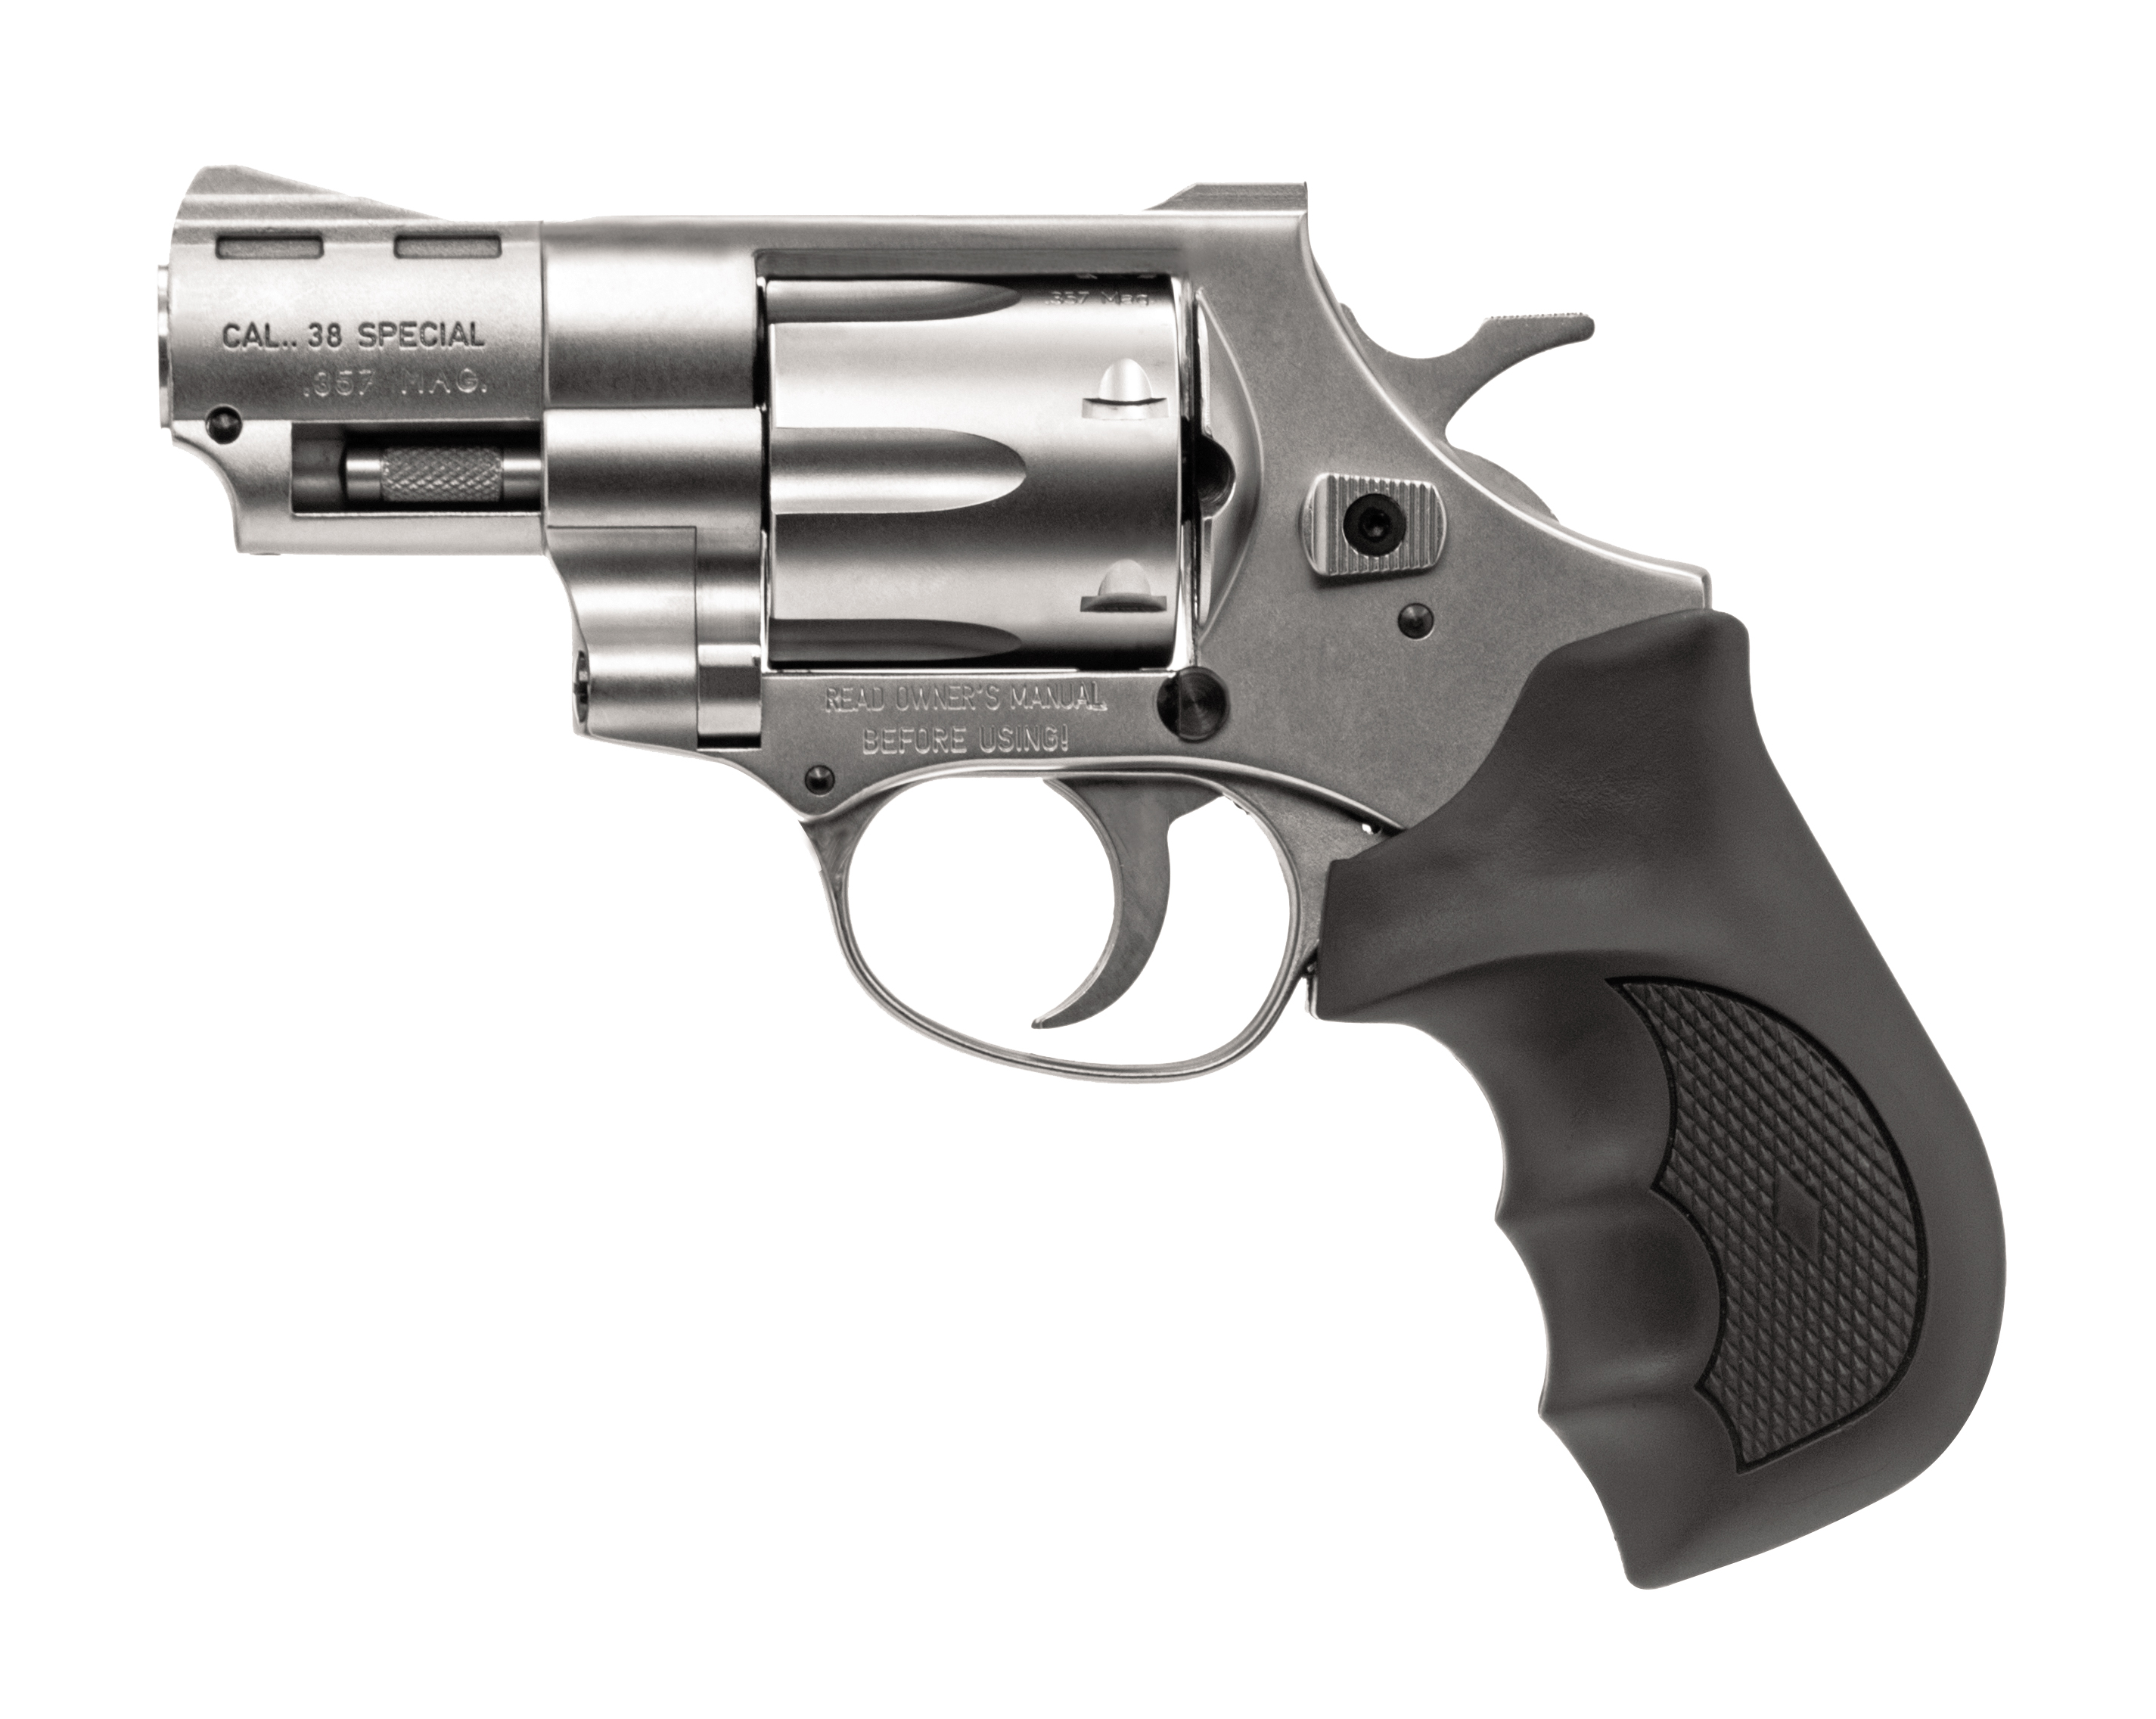gun: (144, 154, 2017, 1603)
